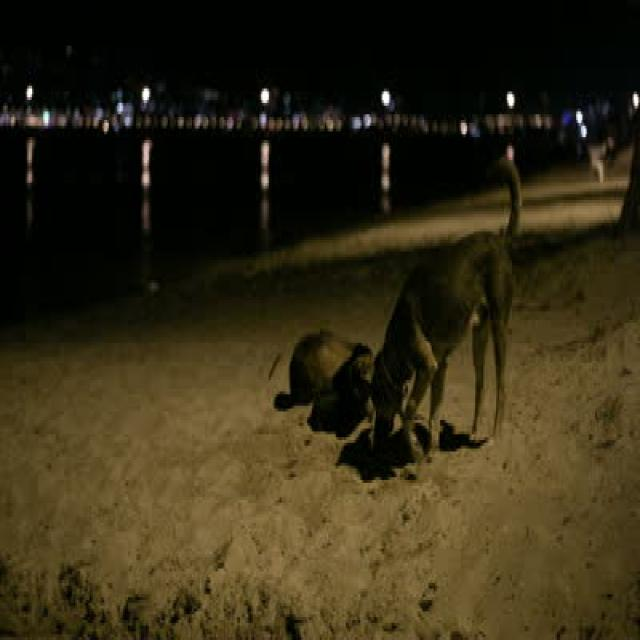Dog: (267, 153, 564, 505)
